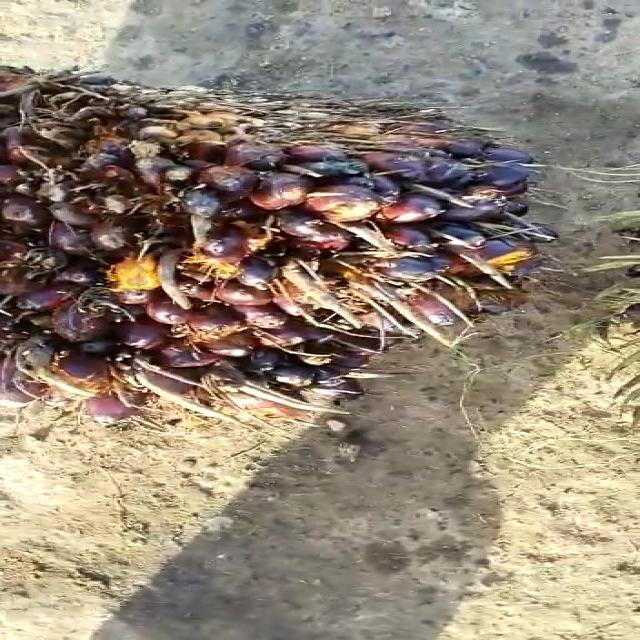palm oil: (0, 46, 553, 436)
